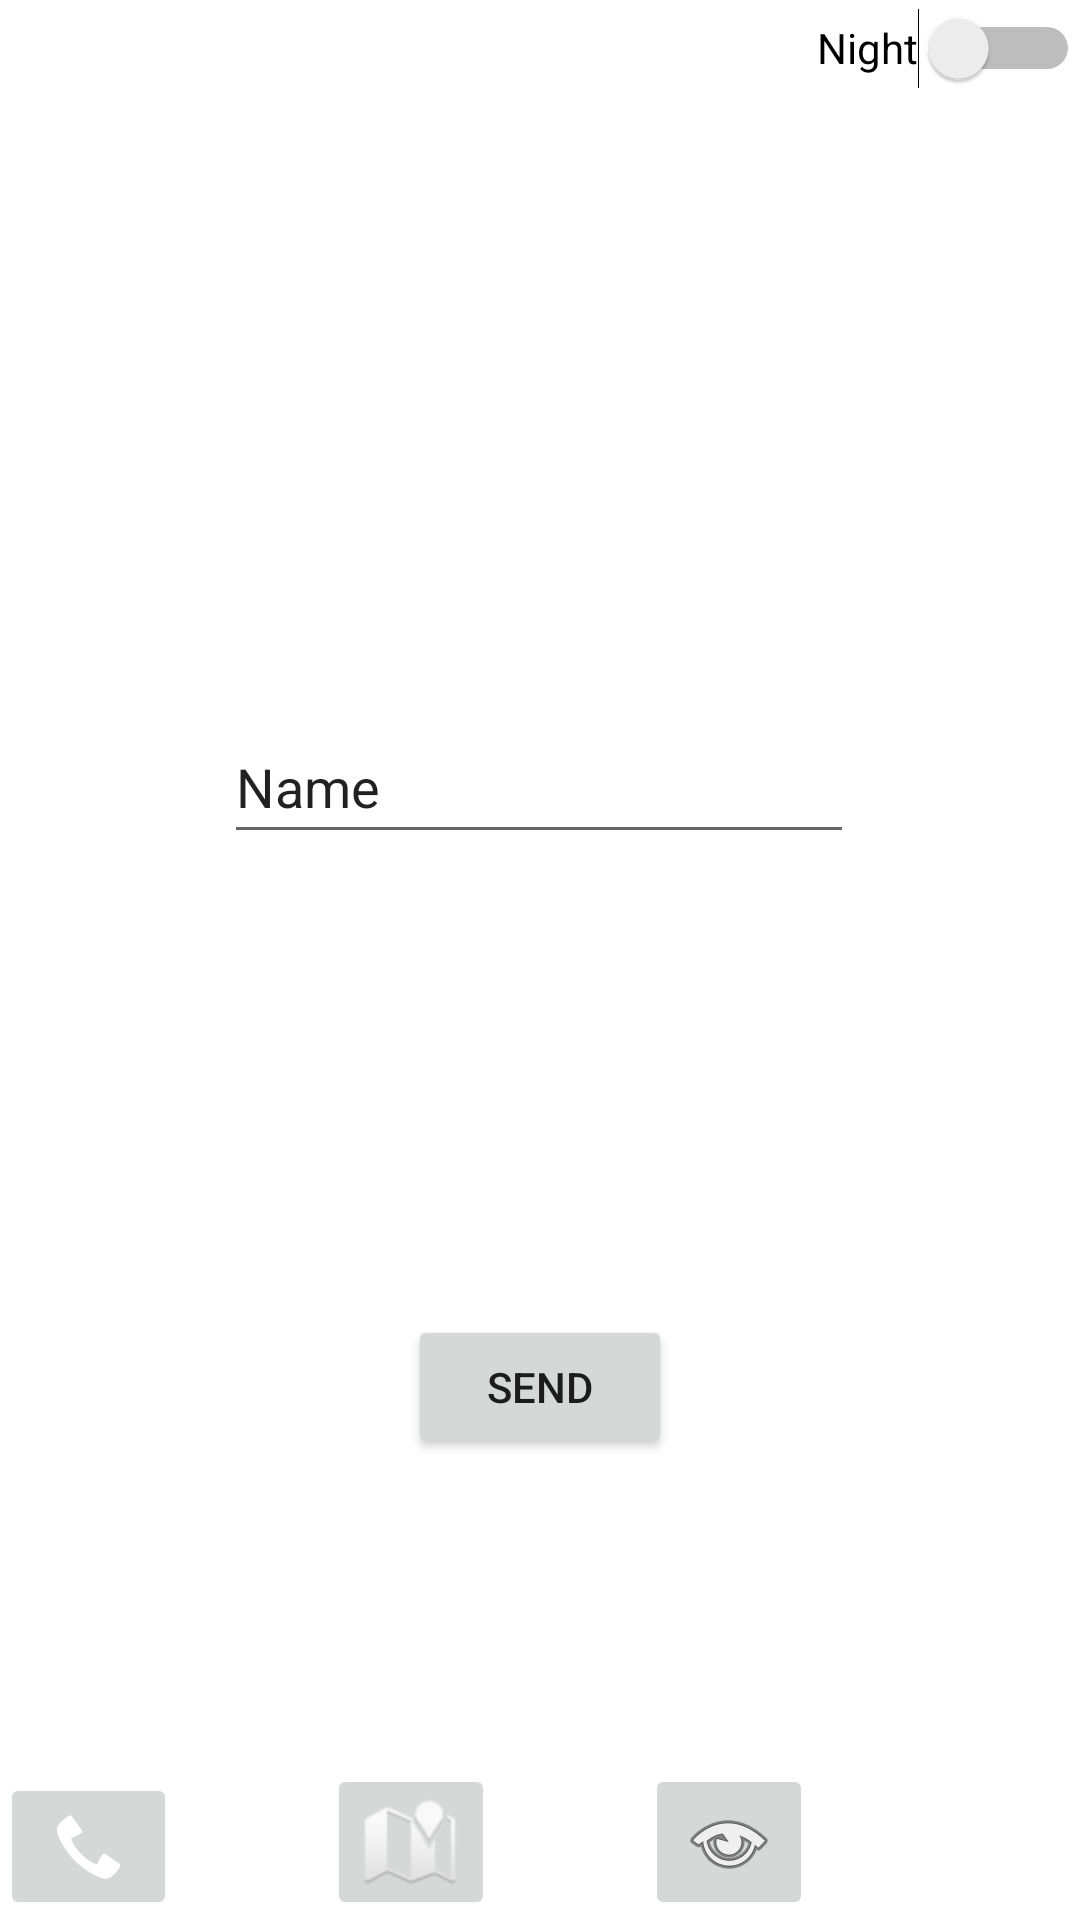

Where icons sit on this 1080 x 1920 app screen, as box=[x1, y1, x2, y2]:
Call: box=[12, 1791, 165, 1902]
Map: box=[339, 1782, 483, 1902]
